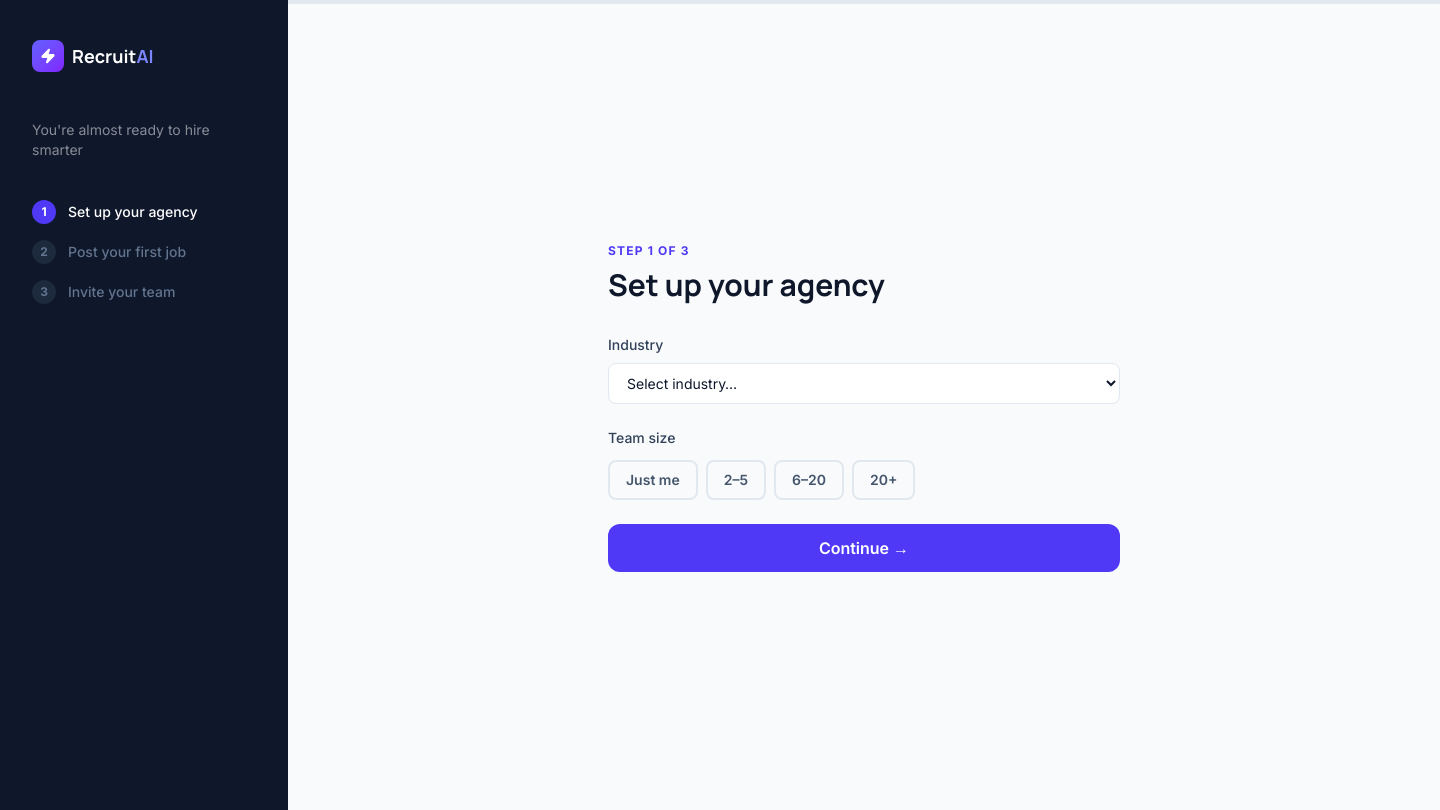
Test: OnboardingPage › can skip step 2 and reach step 3
The width and height of the screenshot is (1440, 810).
Click the button "Continue →" at (864, 548), box [608, 524, 1120, 572]
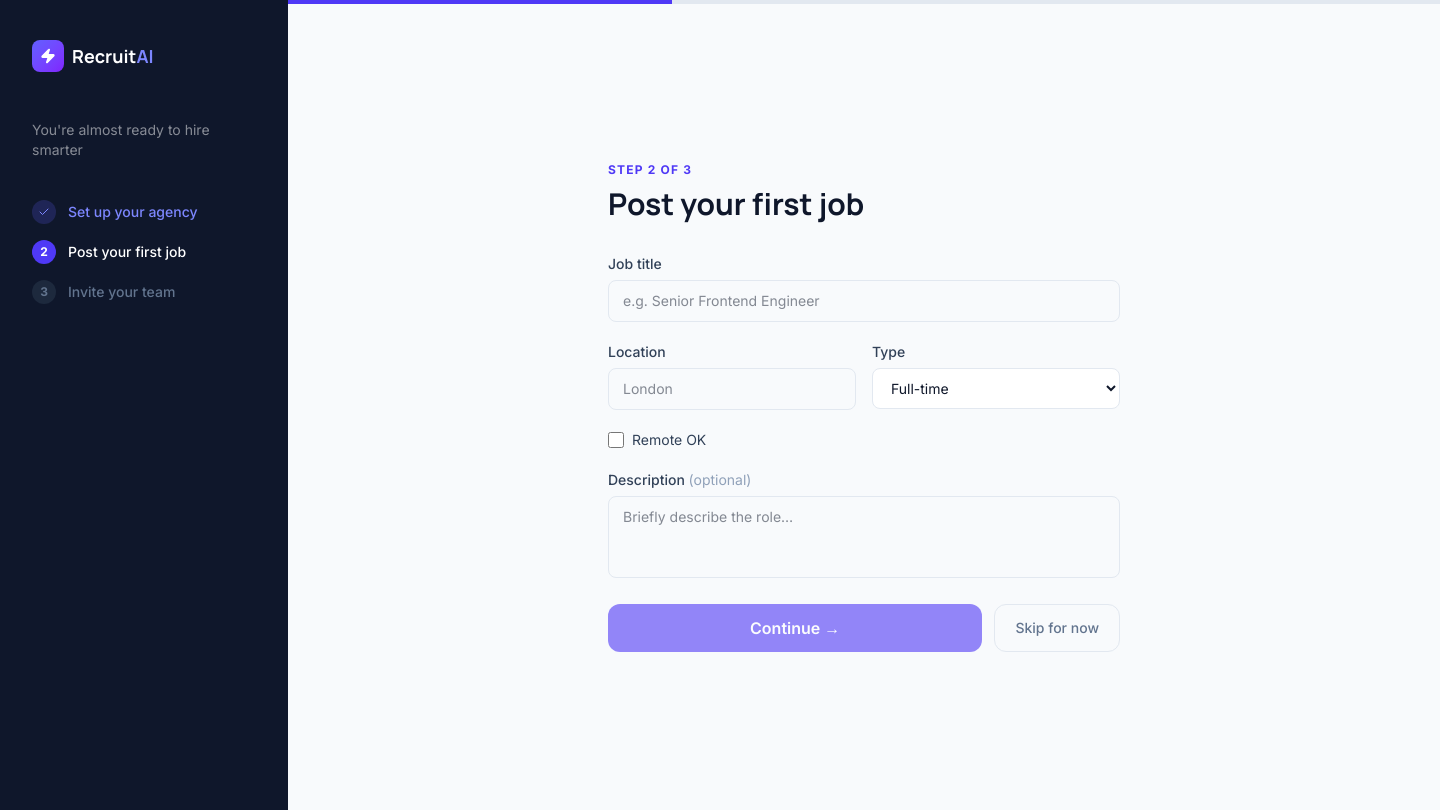
Click the button "Skip for now" at (1057, 628), box [994, 604, 1120, 652]
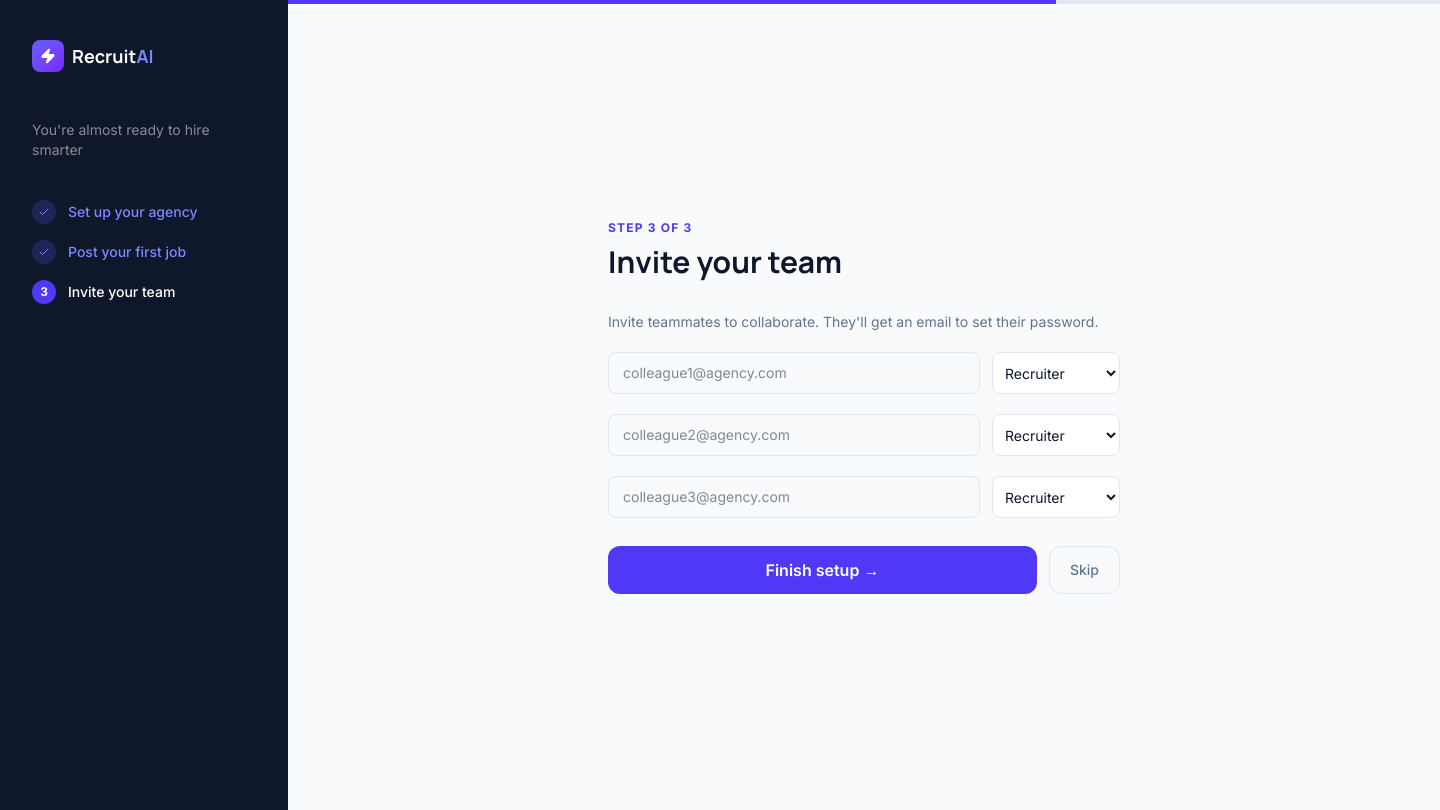
Now the heading "Invite your team" is shown, box [608, 241, 842, 282]
